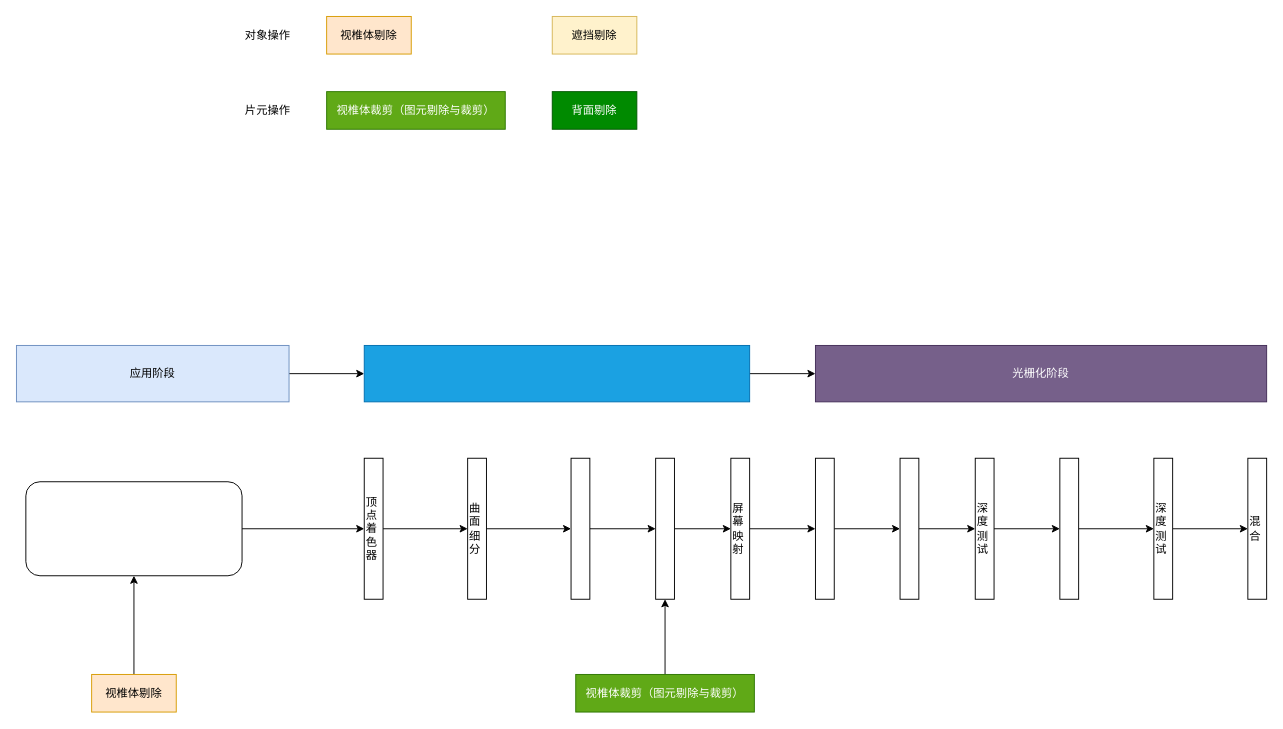
Image size: 1283x729. Some labels were removed from this diagram. Here are the shapes that lost their labels. From the top down, the box of each, then its label:
(363, 345, 750, 402): 几何阶段
(25, 481, 242, 576): CPU处理
(570, 457, 590, 599): 几何着色器
(655, 457, 674, 599): 裁剪
(815, 457, 834, 599): 三角形设置
(899, 457, 919, 599): 三角形遍历
(1059, 457, 1079, 599): 片元着色器
